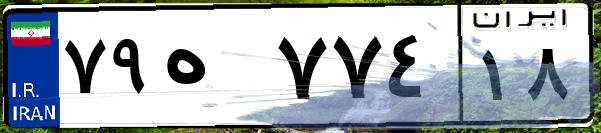1: (475, 38, 525, 113)
4: (385, 28, 445, 110)
7: (270, 28, 330, 110), (330, 28, 385, 110), (57, 26, 110, 100)
8: (525, 38, 570, 115)
9: (110, 28, 158, 98)
ه: (158, 20, 270, 120)
